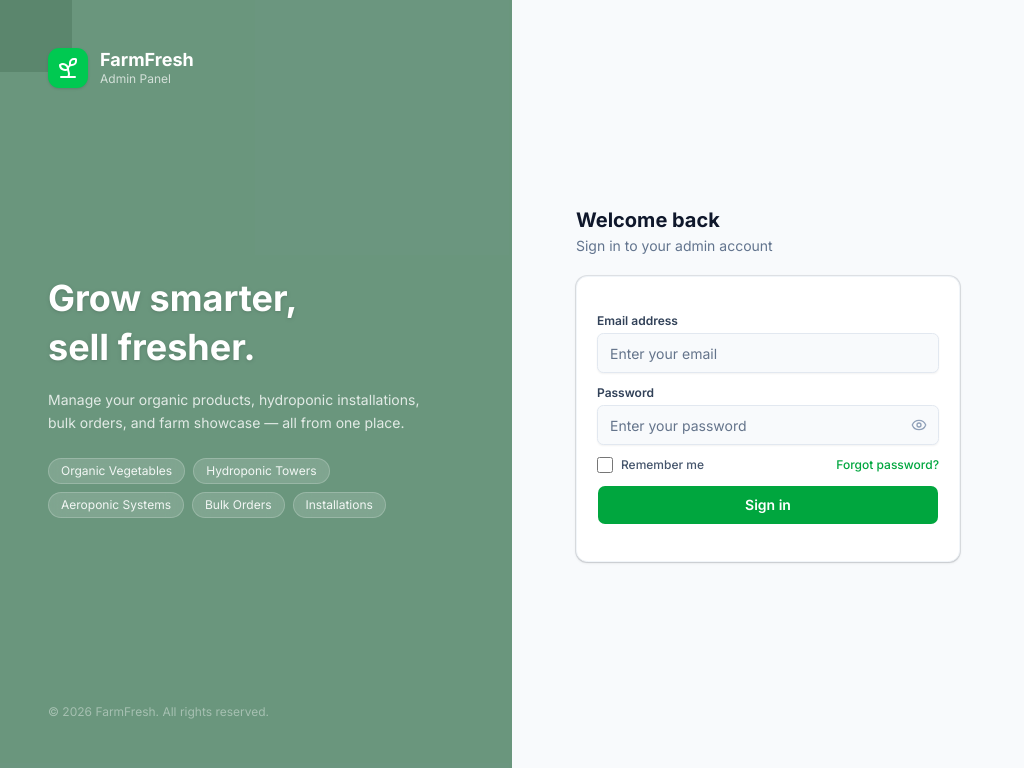
AdminLoginPage › shows generic error when fetch throws (network failure)
In the field with placeholder "Enter your email": (768, 353) left=597, top=333, right=939, bottom=373, type "admin@farmfresh.com"
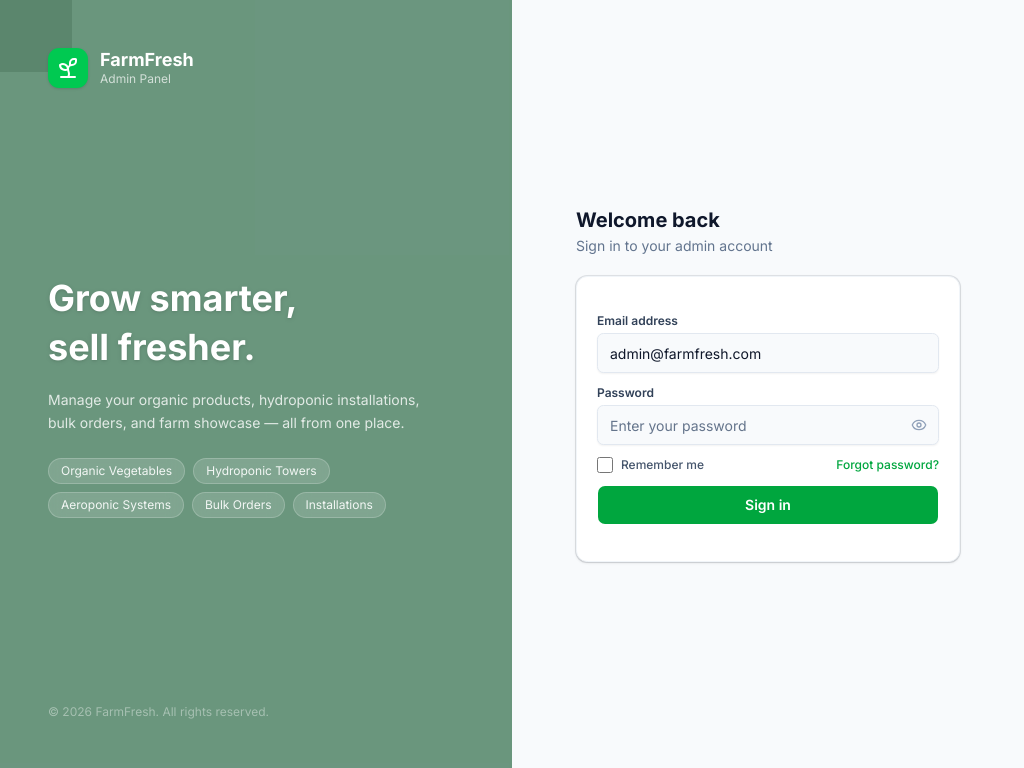
In the password field with placeholder "Enter your password": (768, 425) left=597, top=405, right=939, bottom=445, type "secret123"
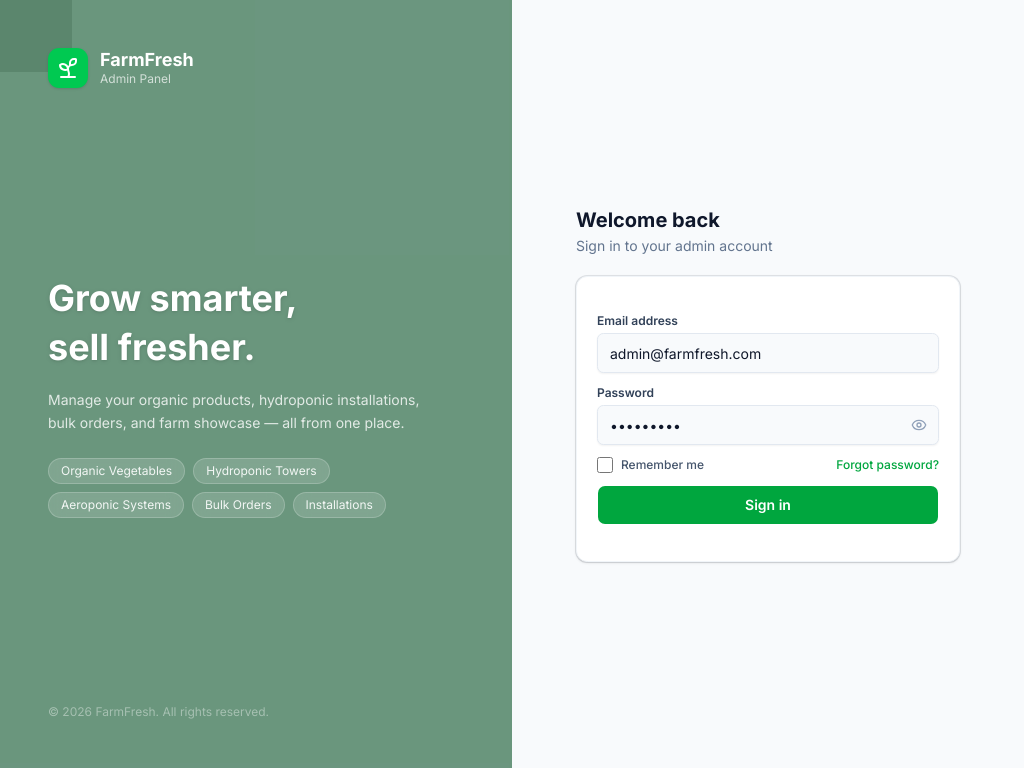
Submit the form with placeholder "Enter your email", box left=597, top=313, right=939, bottom=525
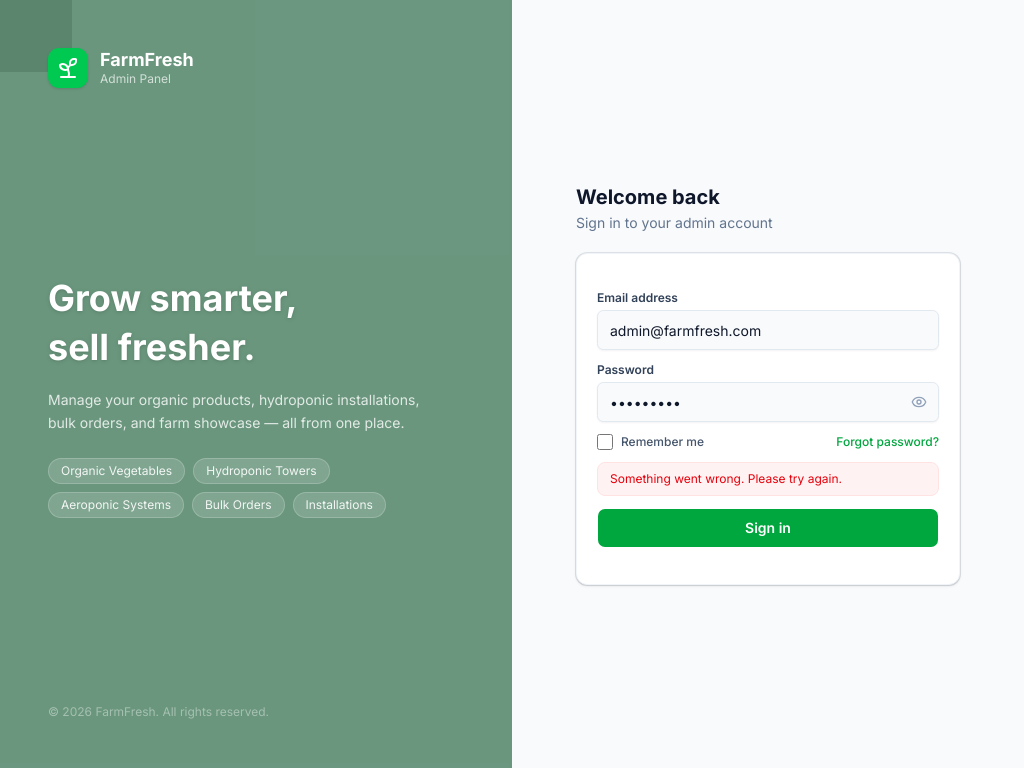
Check: the text "Something went wrong. Please try again." is shown, box left=597, top=462, right=939, bottom=496
